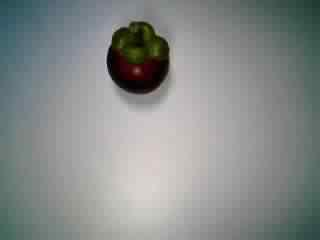mangosteen: (101, 16, 174, 96)
